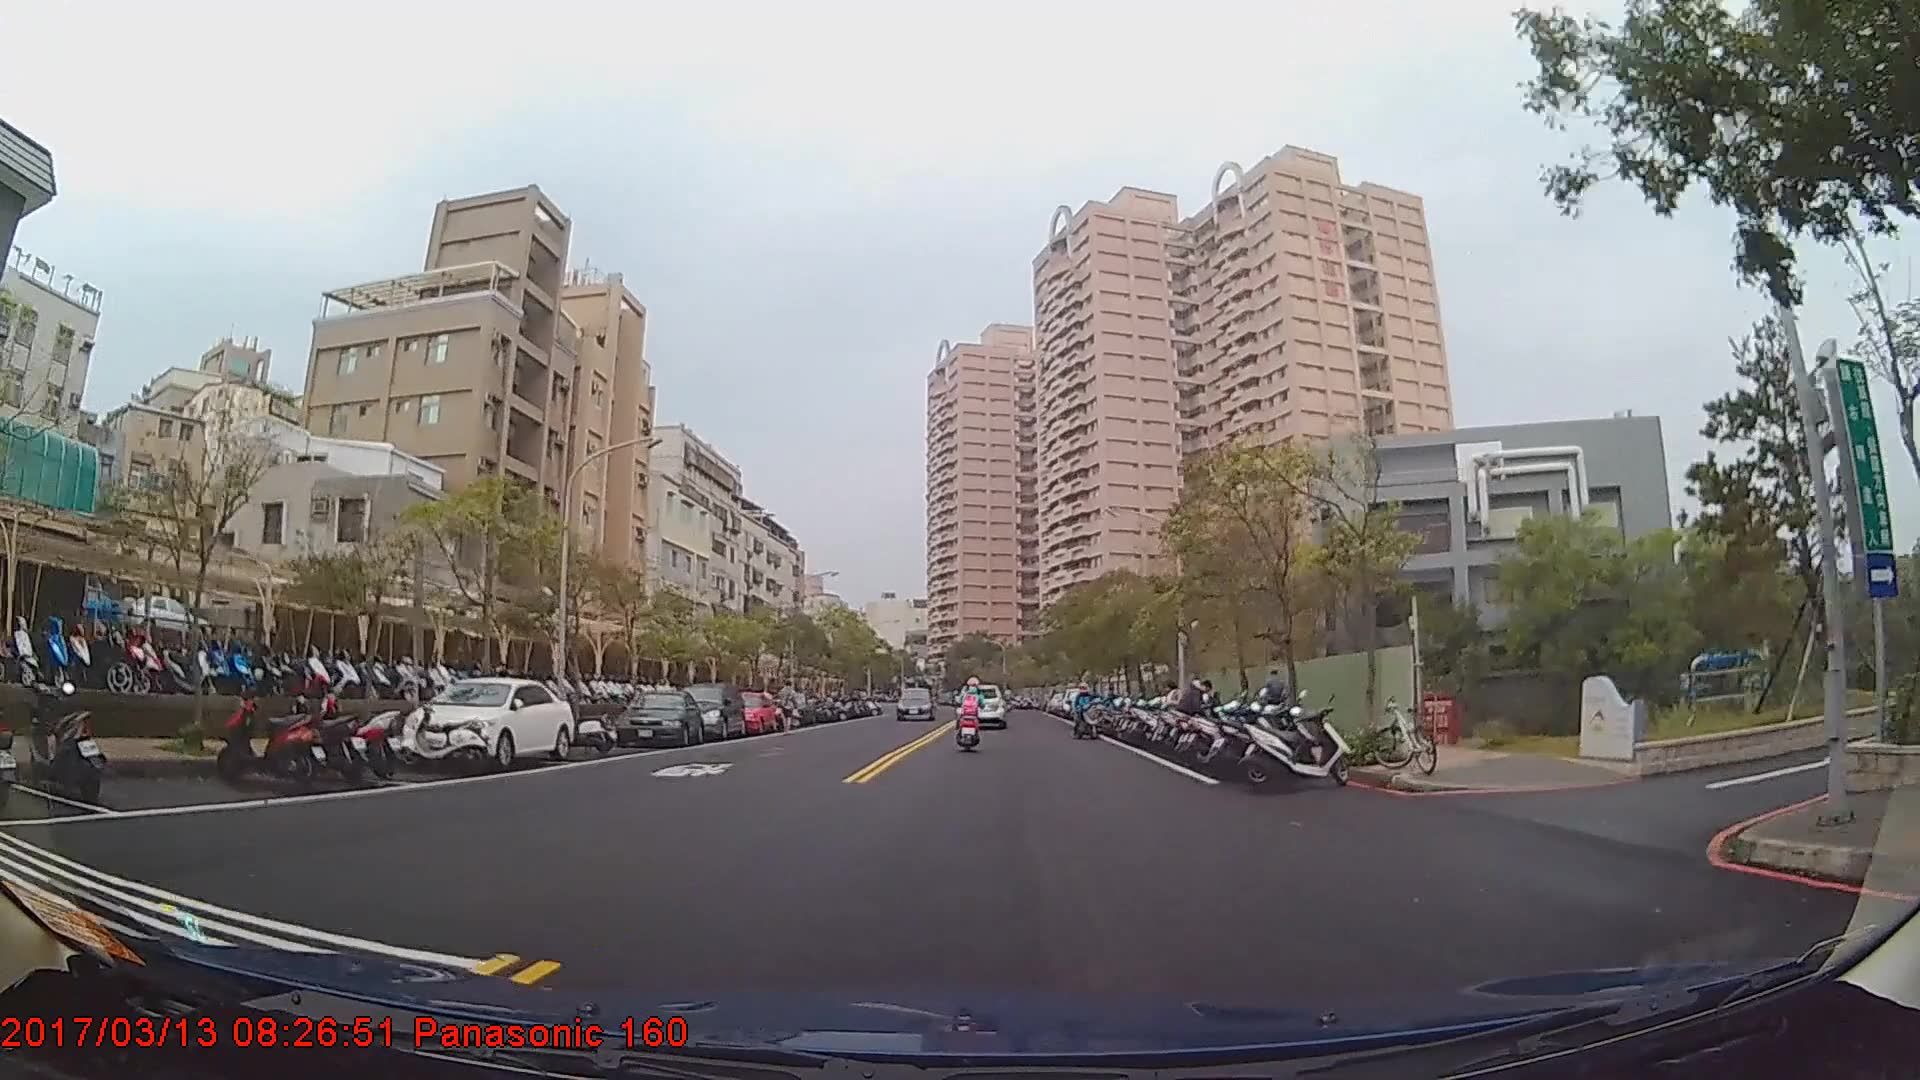pedestrian: (1179, 680, 1214, 755), (776, 681, 805, 740), (1262, 671, 1290, 733)
rider: (957, 681, 987, 754), (1072, 685, 1097, 744)
vehicle: (400, 677, 571, 771), (614, 689, 703, 749), (676, 682, 744, 739), (953, 682, 1006, 732), (721, 689, 778, 735), (896, 686, 933, 720)
